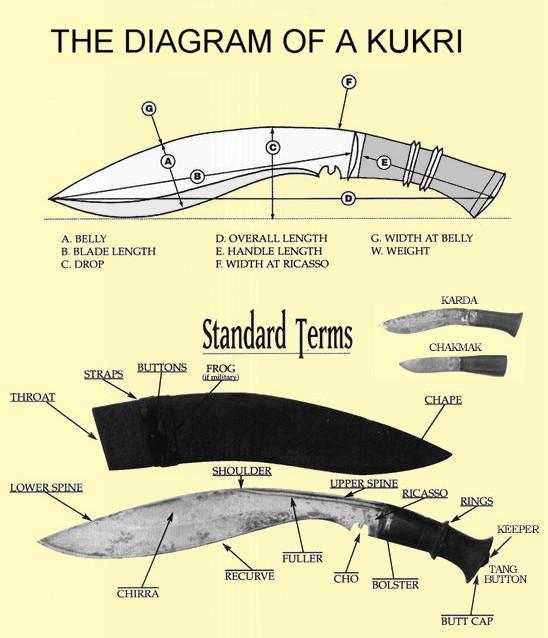facao: (35, 435, 521, 624)
